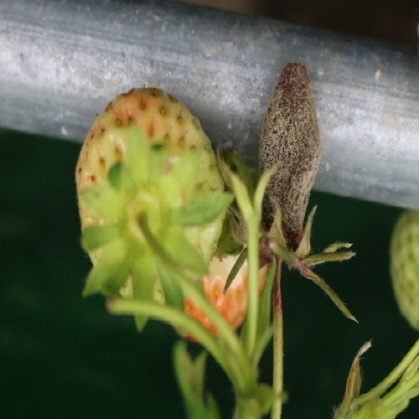Gray_Mold: (257, 154, 322, 357)
